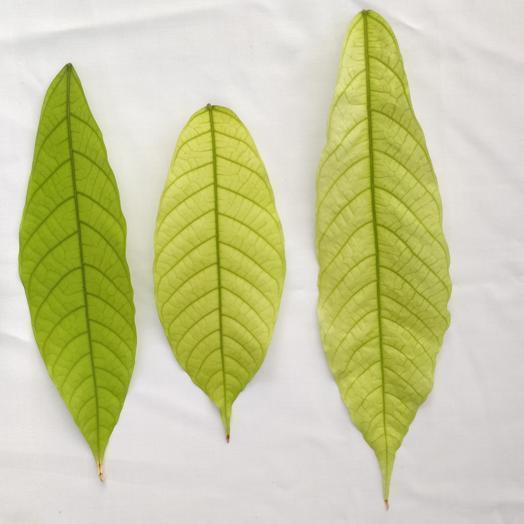Iron: (316, 12, 451, 506), (19, 63, 136, 478), (154, 104, 285, 440)
